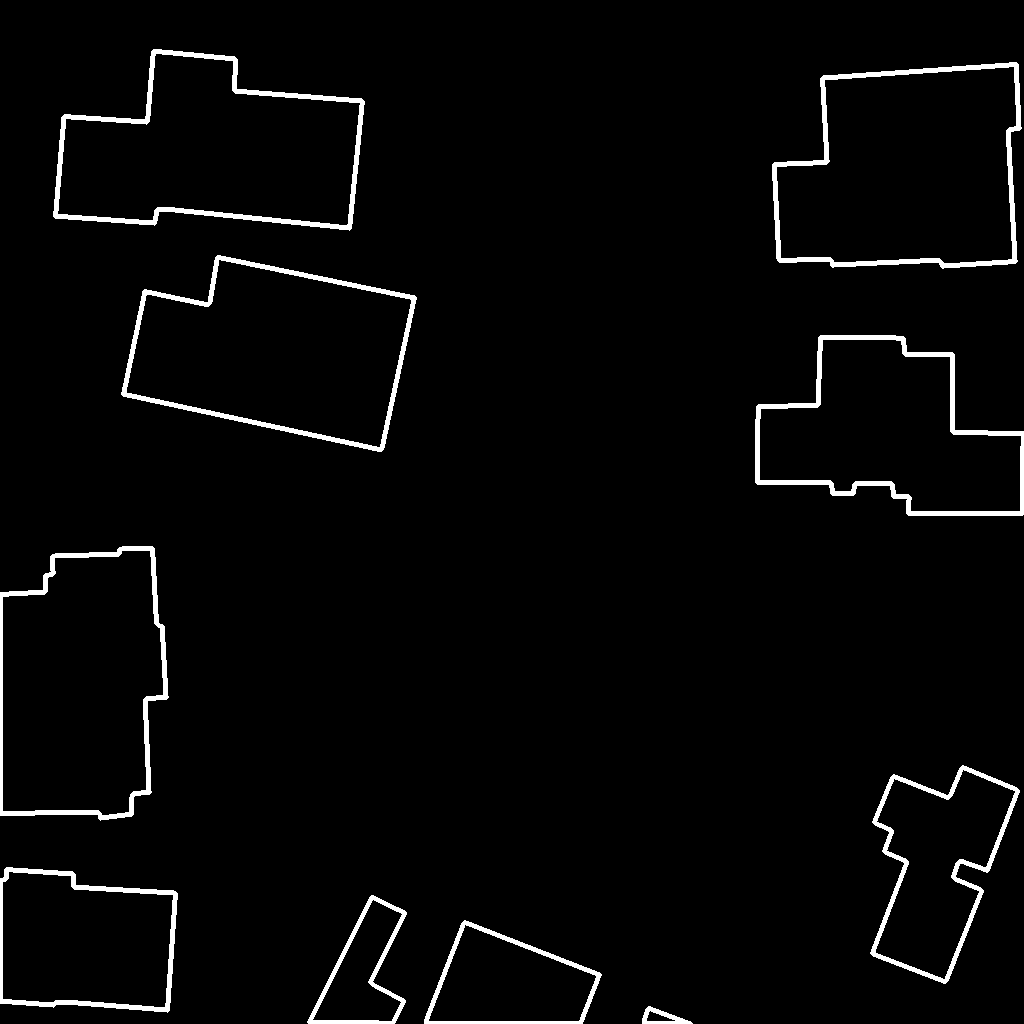building: (123, 257, 416, 451), (55, 51, 364, 229), (774, 64, 1020, 267), (757, 337, 1024, 514), (0, 548, 167, 819), (872, 767, 1019, 983), (0, 869, 177, 1011), (426, 922, 601, 1024), (309, 897, 406, 1024), (644, 1008, 692, 1024)
